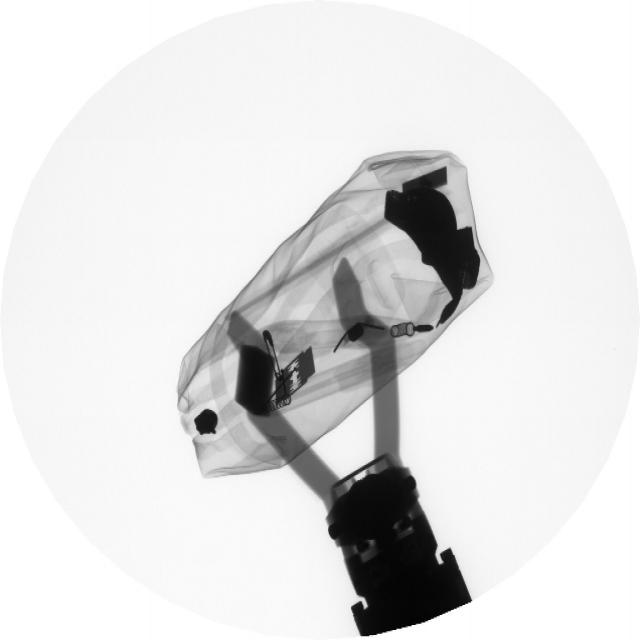BLADE: (278, 339, 322, 417)
